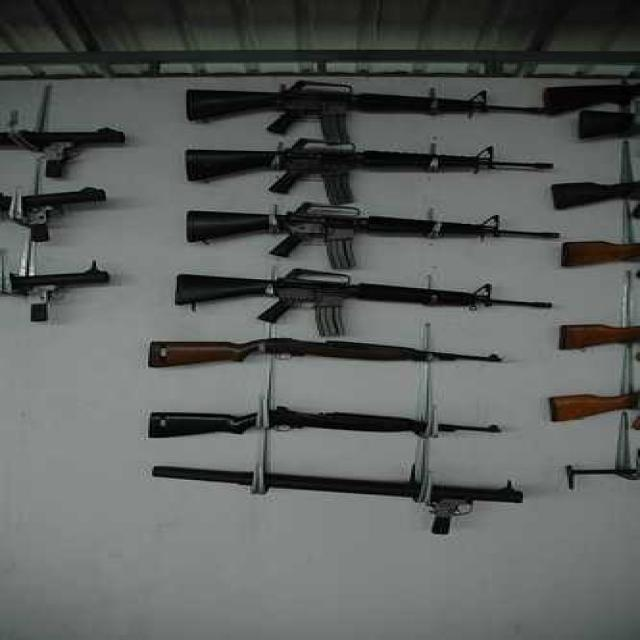AntRifle: (135, 321, 532, 384)
Rifle: (173, 201, 567, 265), (180, 79, 565, 141), (167, 269, 563, 326), (131, 397, 514, 452), (177, 143, 552, 194)
